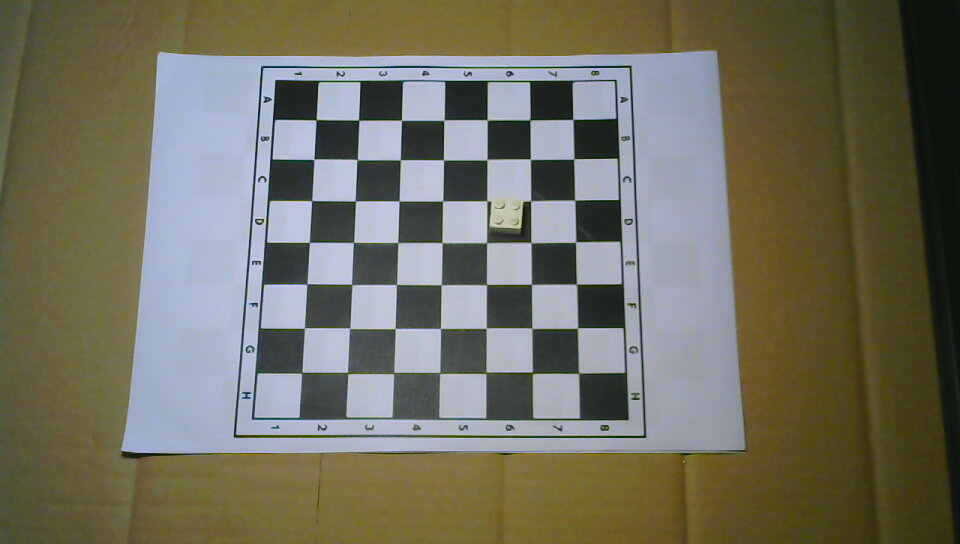wp: (488, 197, 525, 238)
